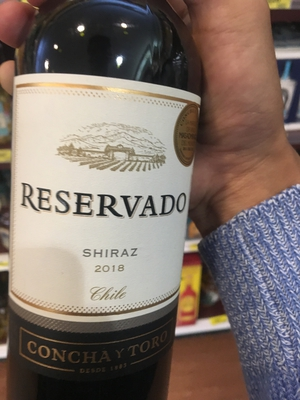reservado shiraz: (9, 18, 207, 400)
